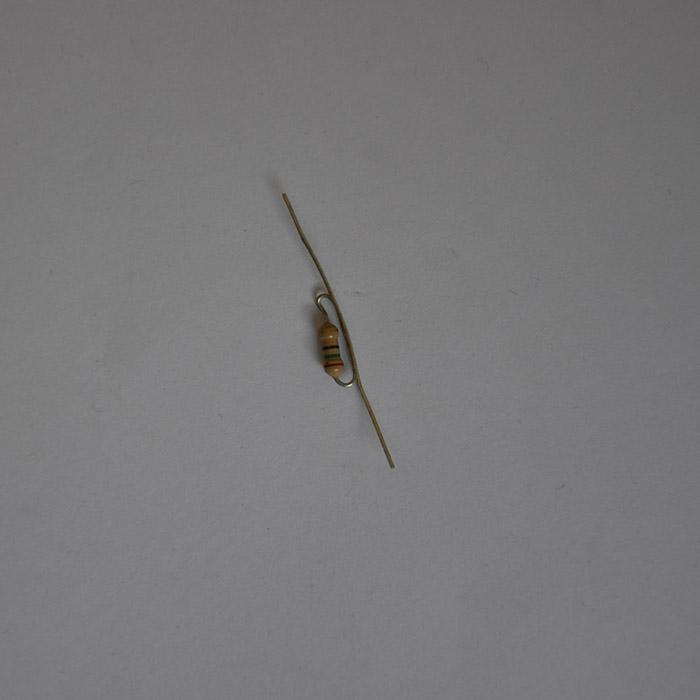resistor: (317, 319, 344, 378)
